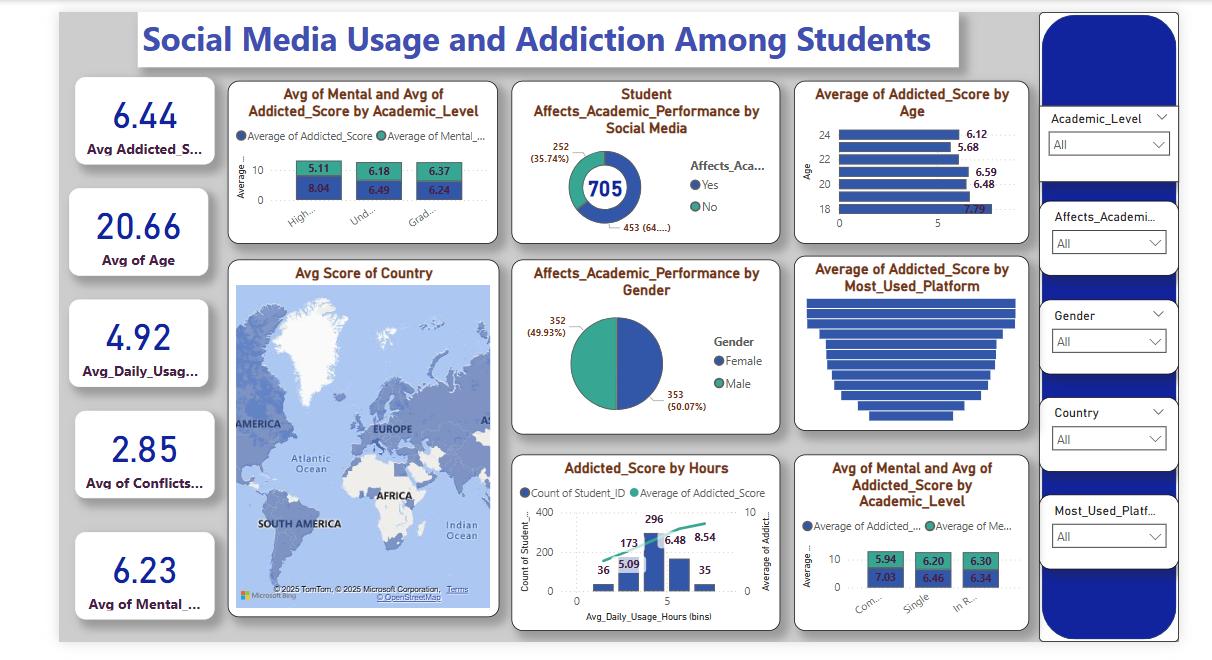

What the dashboard file says about the page in this screenshot:
{"tool":"powerbi","page":{"name":"Page 1","canvas":[1280,720],"ordinal":0},"visuals":[{"type":"textbox","box":[90,0,938.6,62.9],"z":0},{"type":"shape","box":[1120,0,160,720],"z":1000},{"type":"card","fields":{"Values":["Avg(Students Social Media Addiction.Addicted_Score)"]},"box":[19.2,74.1,159.2,100.2],"z":2000},{"type":"card","fields":{"Values":["Avg(Students Social Media Addiction.Age)"]},"box":[11,201.7,159.2,100.2],"z":3000},{"type":"card","fields":{"Values":["Avg(Students Social Media Addiction.Avg_Daily_Usage_Hours)"]},"box":[11,328,159.2,100.2],"z":4000},{"type":"card","fields":{"Values":["Avg(Students Social Media Addiction.Conflicts_Over_Social_Media)"]},"box":[19.2,455.6,159.2,100.2],"z":5000},{"type":"card","fields":{"Values":["Avg(Students Social Media Addiction.Mental_Health_Score)"]},"box":[19.2,594.2,159.2,100.2],"z":6000},{"type":"columnChart","title":"Avg of Mental and Avg of Addicted_Score by Academic_Level","fields":{"Category":["Students Social Media Addiction.Academic_Level"],"Y":["Avg(Students Social Media Addiction.Addicted_Score)","Avg(Students Social Media Addiction.Mental_Health_Score)"]},"box":[193.5,78.2,308.7,186.6],"z":7000},{"type":"donutChart","title":" Student Affects_Academic_Performance by Social Media","fields":{"Category":["Students Social Media Addiction.Affects_Academic_Performance"],"Y":["CountNonNull(Students Social Media Addiction.Student_ID)"]},"box":[517.3,78.2,307.4,186.6],"z":8000},{"type":"card","fields":{"Values":["CountNonNull(Students Social Media Addiction.Student_ID)"]},"box":[546,143.6,159.5,100.6],"z":9000},{"type":"clusteredBarChart","fields":{"Category":["Students Social Media Addiction.Age"],"Y":["Avg(Students Social Media Addiction.Addicted_Score)"]},"box":[839.8,78.2,269,186.6],"z":10000},{"type":"slicer","fields":{"Values":["Students Social Media Addiction.Academic_Level"]},"box":[1120,107.1,160,87.1],"z":11000},{"type":"slicer","fields":{"Values":["Students Social Media Addiction.Affects_Academic_Performance"]},"box":[1120,215.7,160,85.7],"z":12000},{"type":"slicer","fields":{"Values":["Students Social Media Addiction.Gender"]},"box":[1120,328.6,160,85.7],"z":13000},{"type":"slicer","fields":{"Values":["Students Social Media Addiction.Most_Used_Platform"]},"box":[1120,551.4,160,85.7],"z":14000},{"type":"slicer","fields":{"Values":["Students Social Media Addiction.Country"]},"box":[1120,440,160,85.7],"z":15000},{"type":"filledMap","title":"Avg Score of Country","fields":{"Category":["Students Social Media Addiction.Country"]},"box":[192.9,282.9,310,408.6],"z":16000},{"type":"pieChart","title":" Affects_Academic_Performance by Gender","fields":{"Category":["Students Social Media Addiction.Gender"],"Y":["CountNonNull(Students Social Media Addiction.Affects_Academic_Performance)"]},"box":[517.3,282.7,307.4,200.3],"z":17000},{"type":"funnel","fields":{"Category":["Students Social Media Addiction.Most_Used_Platform"],"Y":["Avg(Students Social Media Addiction.Addicted_Score)"]},"box":[840,278.6,268.6,200],"z":18000},{"type":"columnChart","title":"Avg of Mental and Avg of Addicted_Score by Academic_Level","fields":{"Y":["Avg(Students Social Media Addiction.Addicted_Score)","Avg(Students Social Media Addiction.Mental_Health_Score)"],"Category":["Students Social Media Addiction.Relationship_Status"]},"box":[840,505.7,268.6,201.4],"z":19000},{"type":"lineStackedColumnComboChart","title":" Addicted_Score by Hours ","fields":{"Y":["CountNonNull(Students Social Media Addiction.Student_ID)"],"Category":["Students Social Media Addiction.Avg_Daily_Usage_Hours (bins)"],"Y2":["Avg(Students Social Media Addiction.Addicted_Score)"]},"box":[517.1,505.7,307.1,201.4],"z":20000}]}

Visuals, with their boxes in screenshot pixels (x1, y1, x2, y2):
textbox: region(138, 9, 956, 64)
shape: region(1036, 9, 1175, 637)
card - Avg(Students Social Media Addiction.Addicted_Score): region(77, 74, 215, 161)
card - Avg(Students Social Media Addiction.Age): region(70, 185, 208, 273)
card - Avg(Students Social Media Addiction.Avg_Daily_Usage_Hours): region(70, 295, 208, 383)
card - Avg(Students Social Media Addiction.Conflicts_Over_Social_Media): region(77, 407, 215, 494)
card - Avg(Students Social Media Addiction.Mental_Health_Score): region(77, 527, 215, 615)
"Avg of Mental and Avg of Addicted_Score by Academic_Level" columnChart: region(229, 78, 498, 240)
" Student Affects_Academic_Performance by Social Media" donutChart: region(511, 78, 779, 240)
card - CountNonNull(Students Social Media Addiction.Student_ID): region(536, 135, 675, 222)
clusteredBarChart - Students Social Media Addiction.Age x Avg(Students Social Media Addiction.Addicted_Score): region(792, 78, 1026, 240)
slicer - Students Social Media Addiction.Academic_Level: region(1036, 103, 1175, 179)
slicer - Students Social Media Addiction.Affects_Academic_Performance: region(1036, 197, 1175, 272)
slicer - Students Social Media Addiction.Gender: region(1036, 296, 1175, 371)
slicer - Students Social Media Addiction.Most_Used_Platform: region(1036, 490, 1175, 565)
slicer - Students Social Media Addiction.Country: region(1036, 393, 1175, 468)
"Avg Score of Country" filledMap: region(228, 256, 498, 612)
" Affects_Academic_Performance by Gender" pieChart: region(511, 256, 779, 430)
funnel - Students Social Media Addiction.Most_Used_Platform x Avg(Students Social Media Addiction.Addicted_Score): region(792, 252, 1026, 427)
"Avg of Mental and Avg of Addicted_Score by Academic_Level" columnChart: region(792, 450, 1026, 626)
" Addicted_Score by Hours " lineStackedColumnComboChart: region(511, 450, 778, 626)
